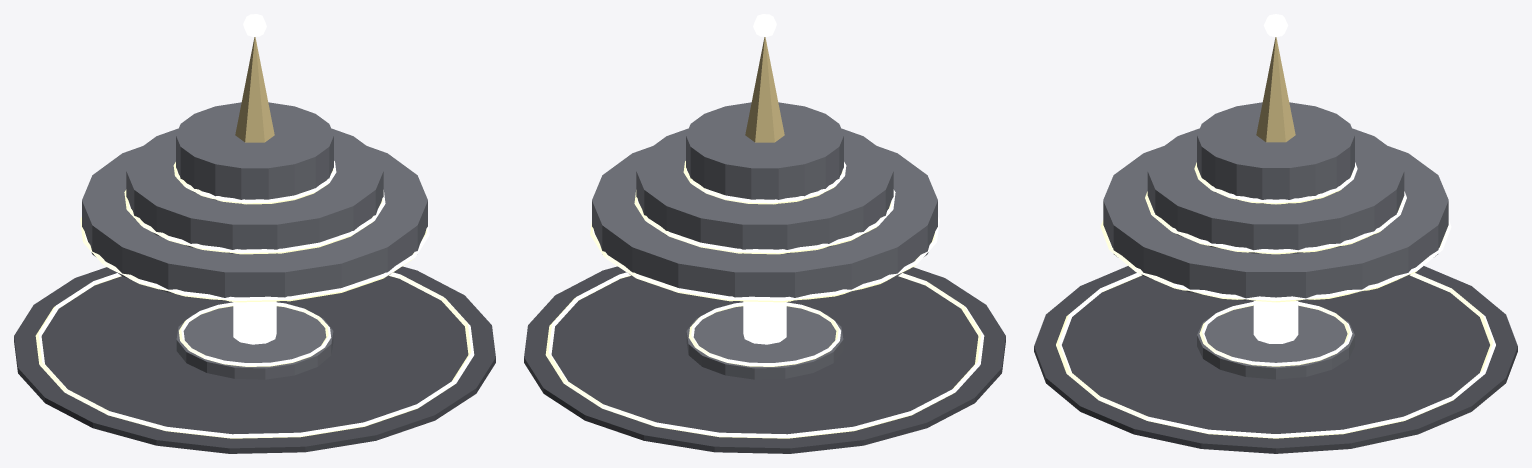
Rendered from zone_low_2.glb.
3 views of the same model, side by side, from view 1: azimuth 30°, elevation 25°; view 2: azimuth 150°, elevation 25°; view 3: azimuth 270°, elevation 25° (orthographic).
Parts seen in each view (by area): view 1: zone_low_2, detail; view 2: zone_low_2, detail; view 3: zone_low_2, detail.
Boxes of the visible parts, bbox=[...] form: zone_low_2: bbox=[14, 37, 495, 453]; detail: bbox=[35, 14, 474, 438]; zone_low_2: bbox=[524, 37, 1005, 453]; detail: bbox=[545, 14, 984, 438]; zone_low_2: bbox=[1034, 37, 1517, 453]; detail: bbox=[1056, 14, 1495, 438].
Bounding box in the file's own units: 19.6 × 15.08 × 19.6.
